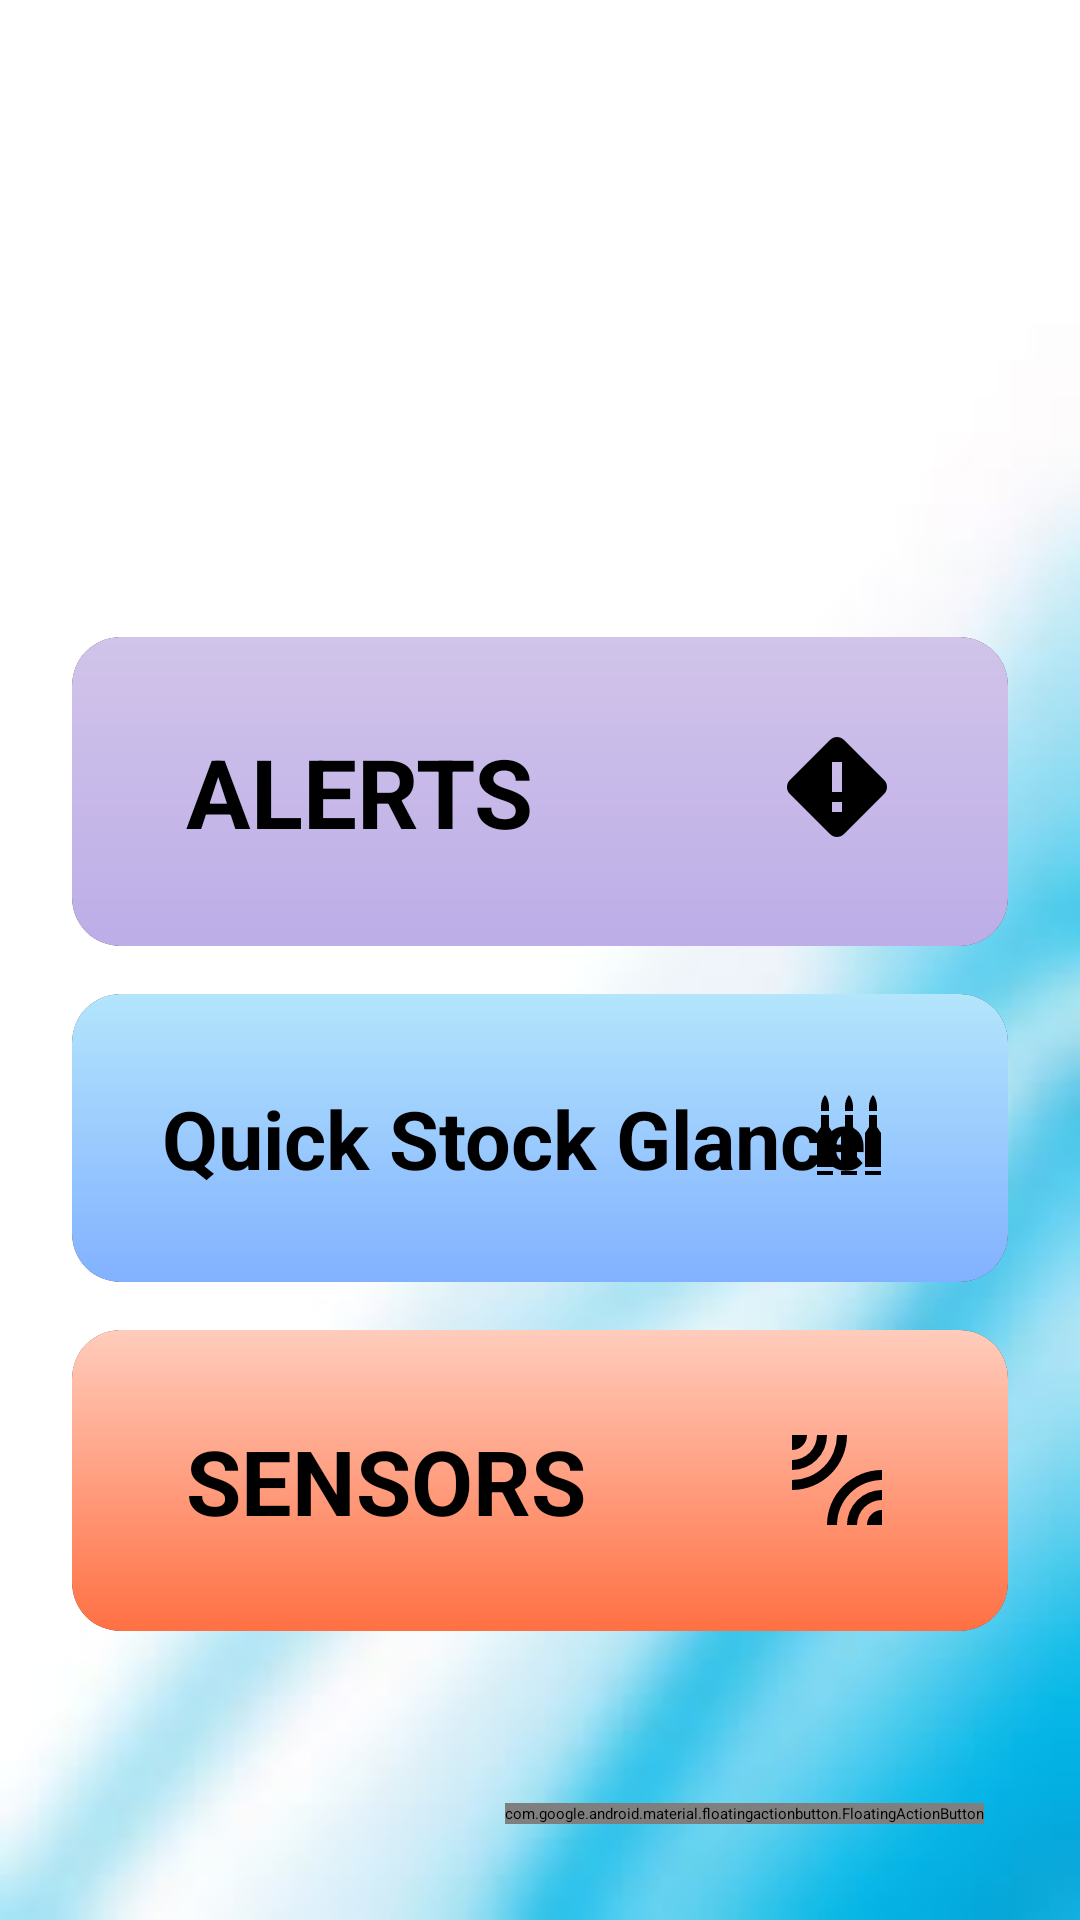

Screen size 1080px×1920px. Icon name, then its center in pixels as (x,y):
alert card: (837,787)
sensors card: (837,1480)
